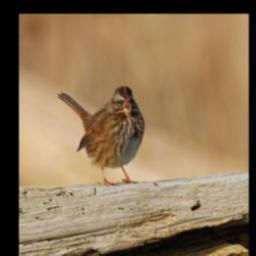Sparrow: (55, 84, 144, 185)
